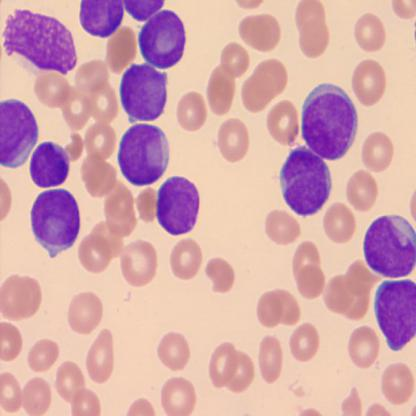Blast: (298, 80, 360, 162), (277, 143, 334, 219), (28, 186, 83, 261), (115, 122, 171, 188), (117, 62, 171, 127), (136, 7, 190, 72), (155, 172, 202, 240), (29, 138, 71, 191)
